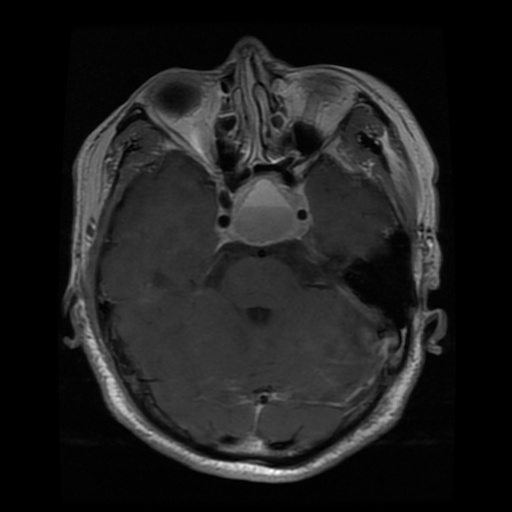pituitary: (233, 175, 303, 244)
